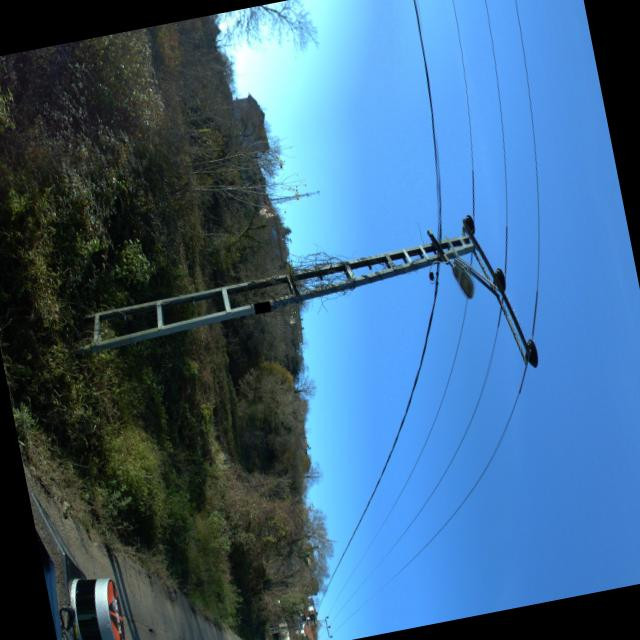Utility Pole Information Plate: (253, 301, 269, 315)
